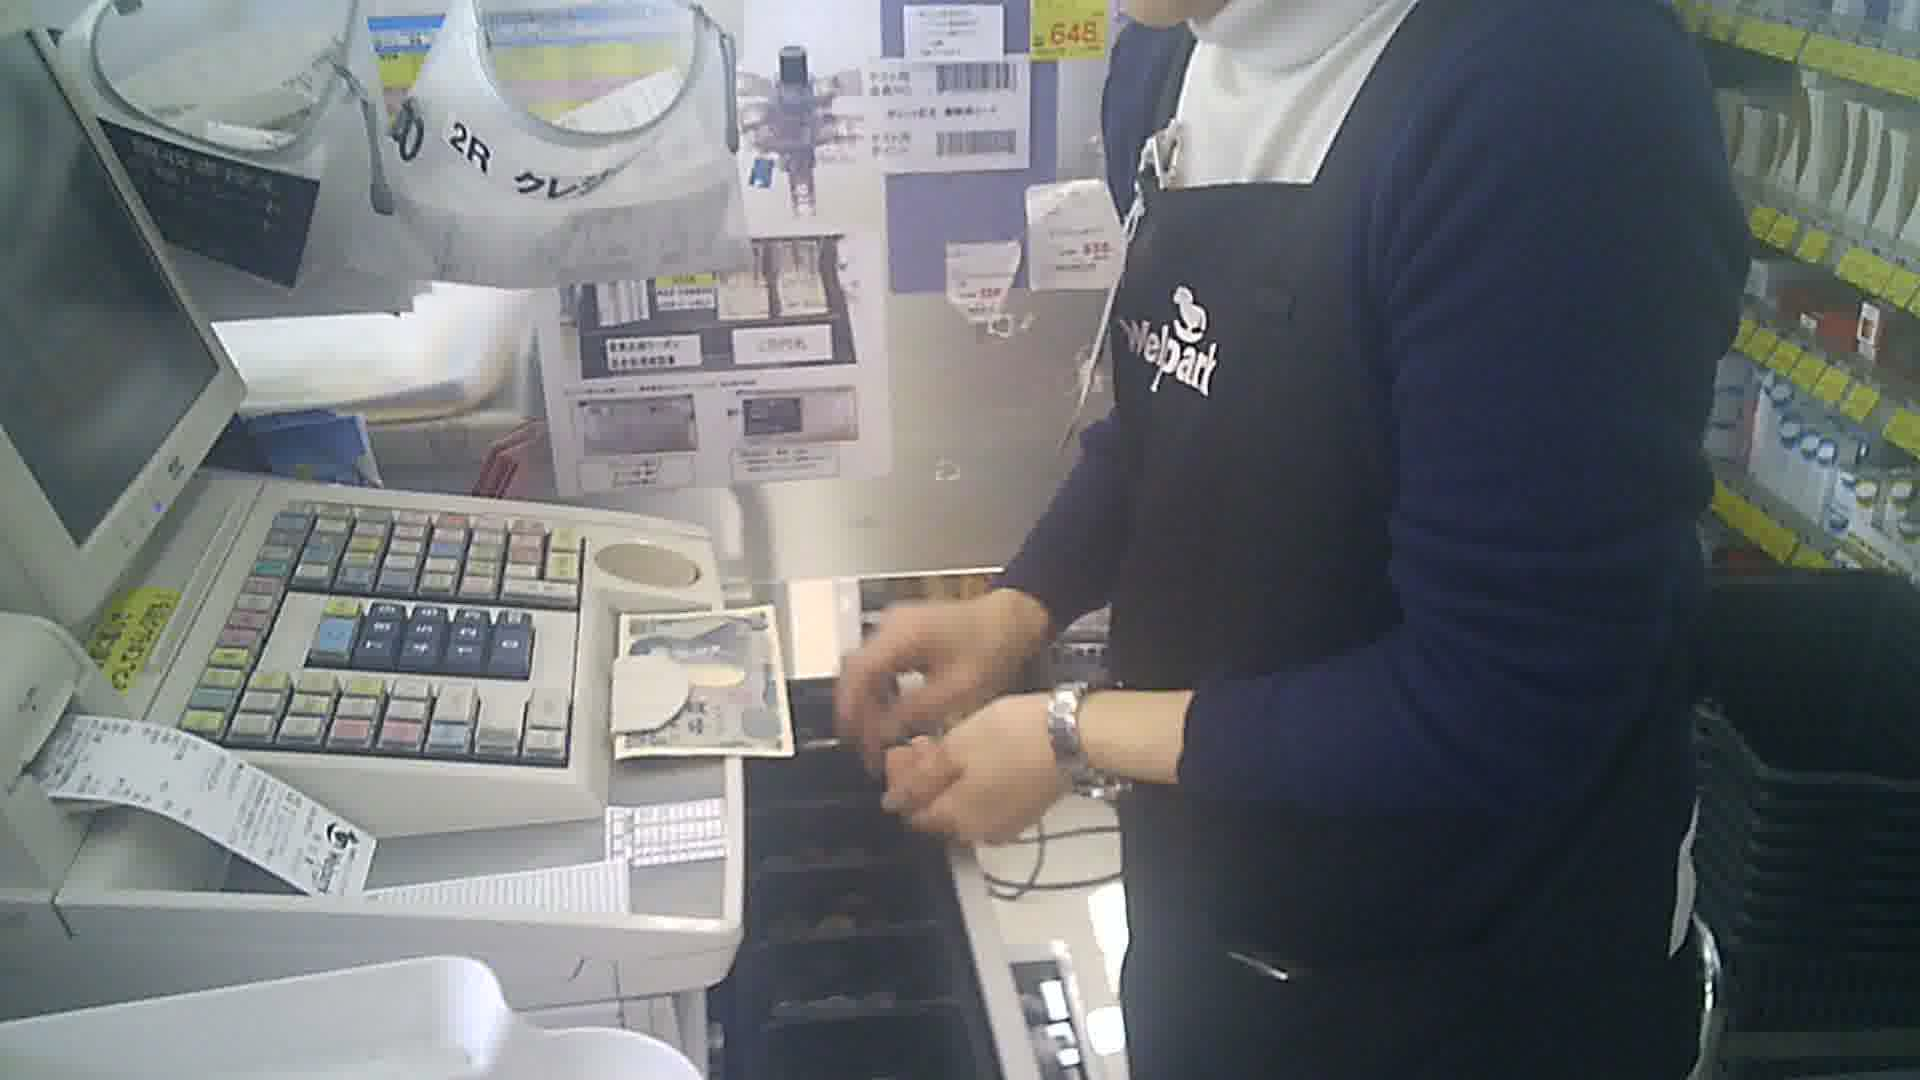1,000 Yen: (607, 597, 808, 761)
